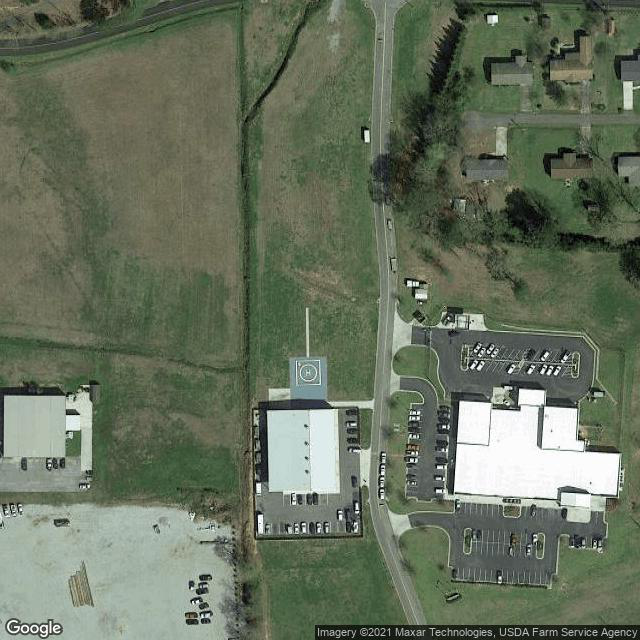Helipad: (291, 356, 326, 388)
